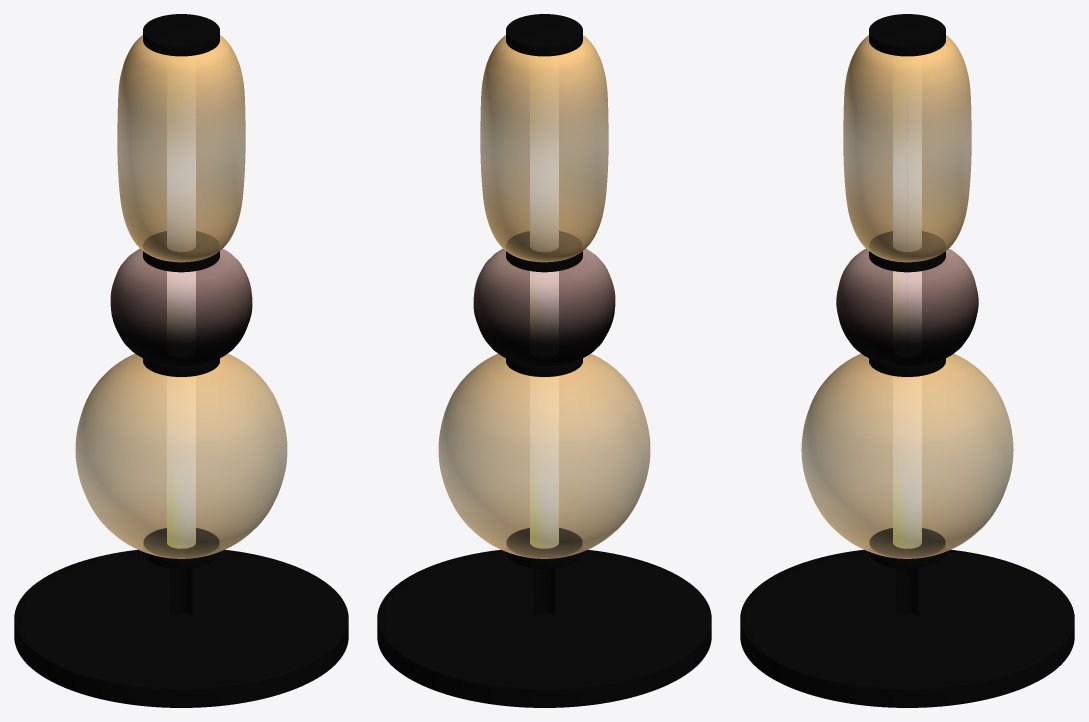
Rendered from table-lamp-3-heads-b-black-60cm.glb.
3 views of the same model, side by side, from view 1: azimuth 30°, elevation 25°; view 2: azimuth 150°, elevation 25°; view 3: azimuth 270°, elevation 25° (orthographic).
Parts seen in each view (by area): view 1: Combined_Mesh; view 2: Combined_Mesh; view 3: Combined_Mesh.
Part boxes in pixels (x1,y1,x2,y2): Combined_Mesh: [14, 14, 348, 707]; Combined_Mesh: [377, 14, 711, 707]; Combined_Mesh: [740, 14, 1074, 707].
Size of the model in its own units: 0.2995 by 0.6 by 0.2995.
3 materials, 1 textured.
